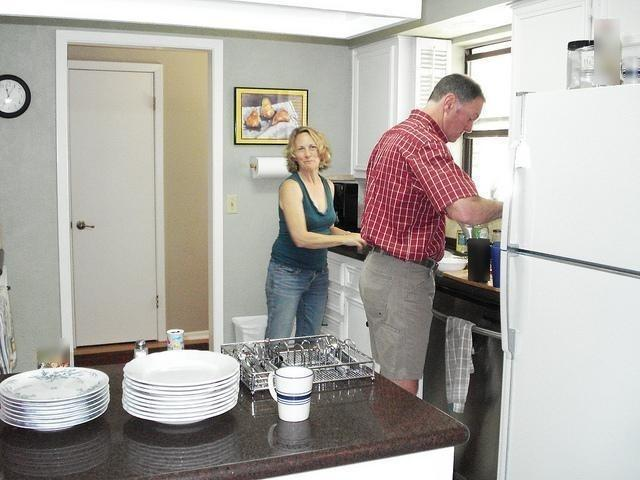cup-handle: (267, 365, 314, 421)
